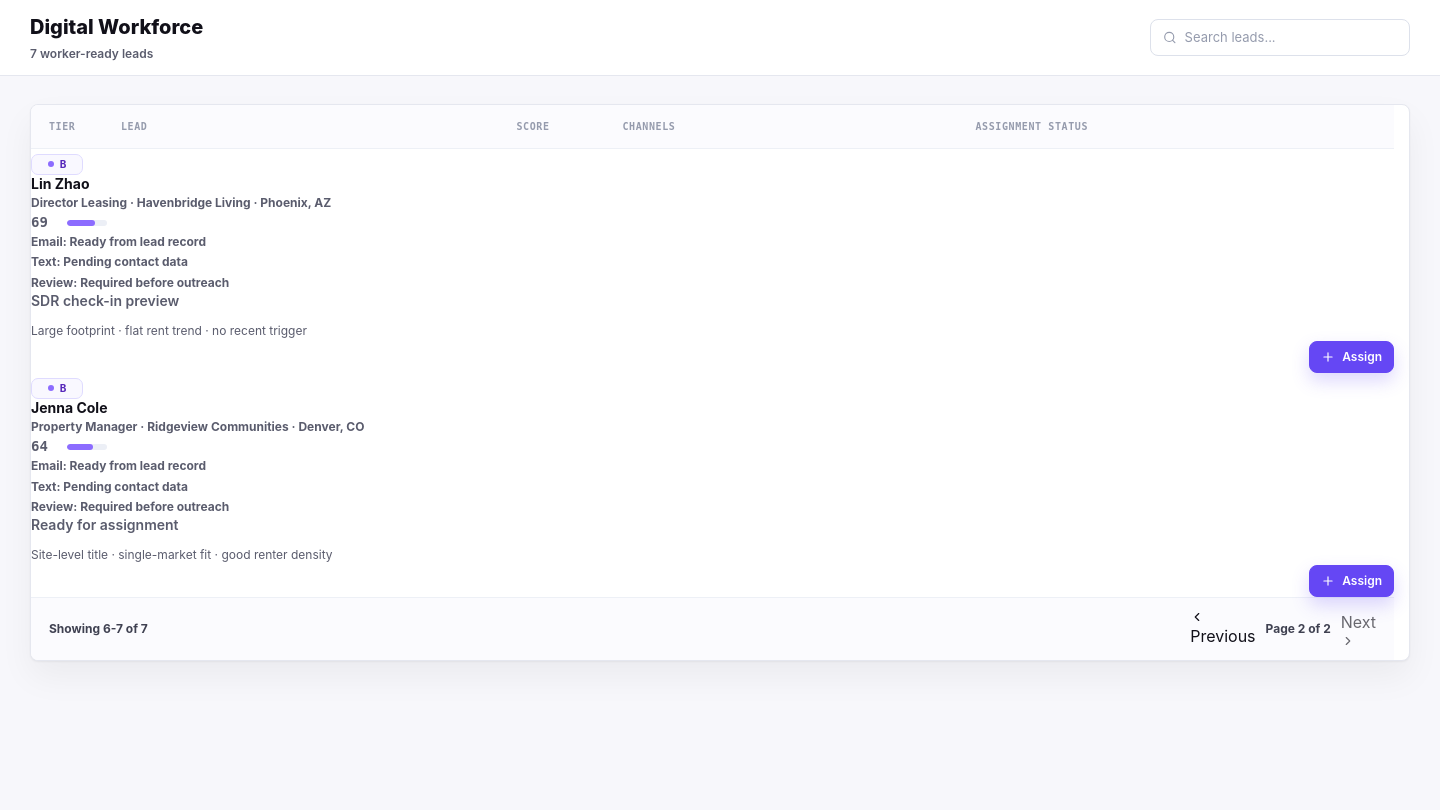
Digital Workforce views › resets pagination when search changes and keeps empty-state copy
Expected: the text "Lin Zhao" is shown, [31,174,90,192]
Type "Sarah Chen" into the field named "Search digital workforce". click: (1291, 38)
box: [1185,28,1397,47]
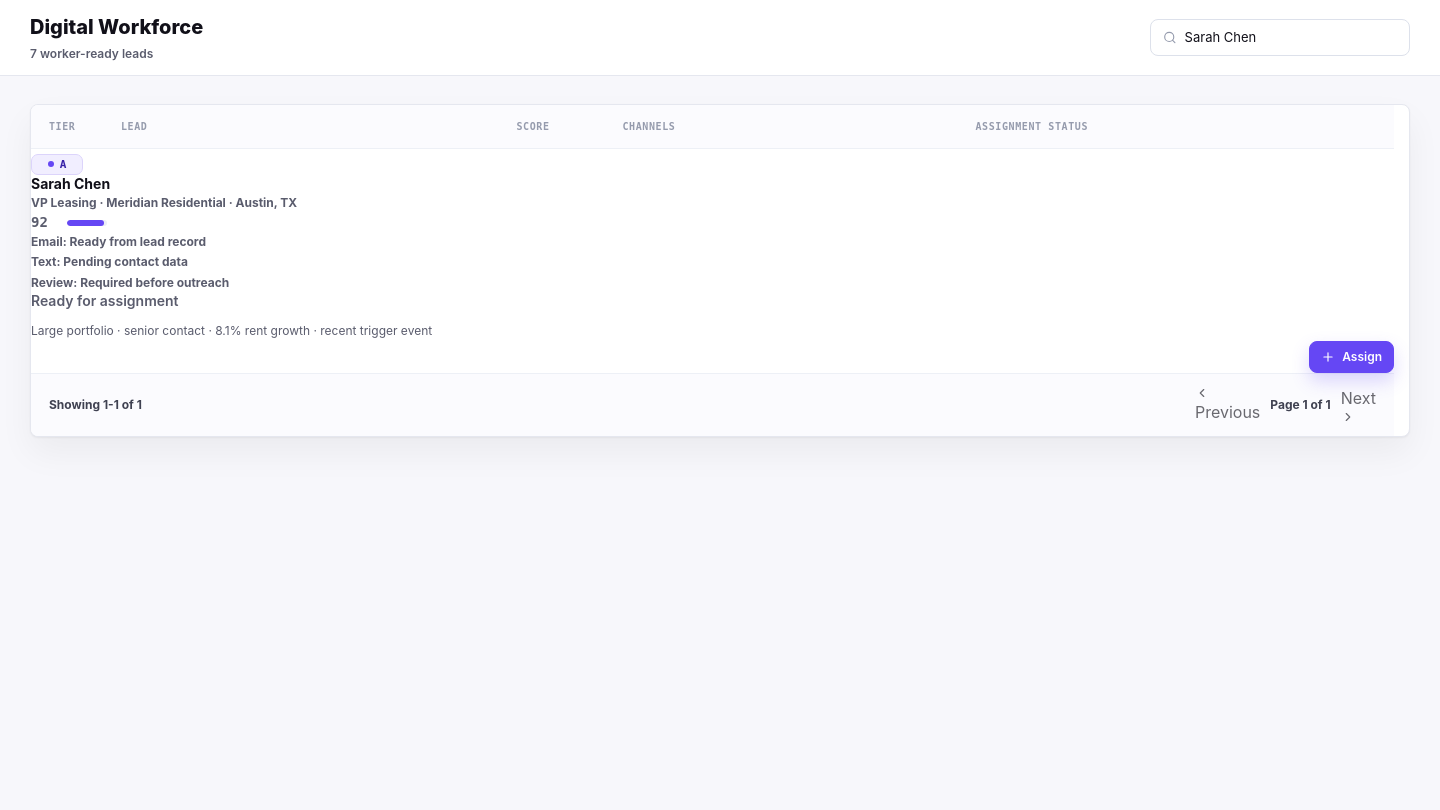
Now the text "Sarah Chen" is shown, box [31,174,110,192]
Now the text "Showing 1-1 of 1" is shown, box [49,396,142,414]
Replace the text in the field named "Search digital workforce" with "does not exist". click: (1291, 38)
box: [1185,28,1397,47]
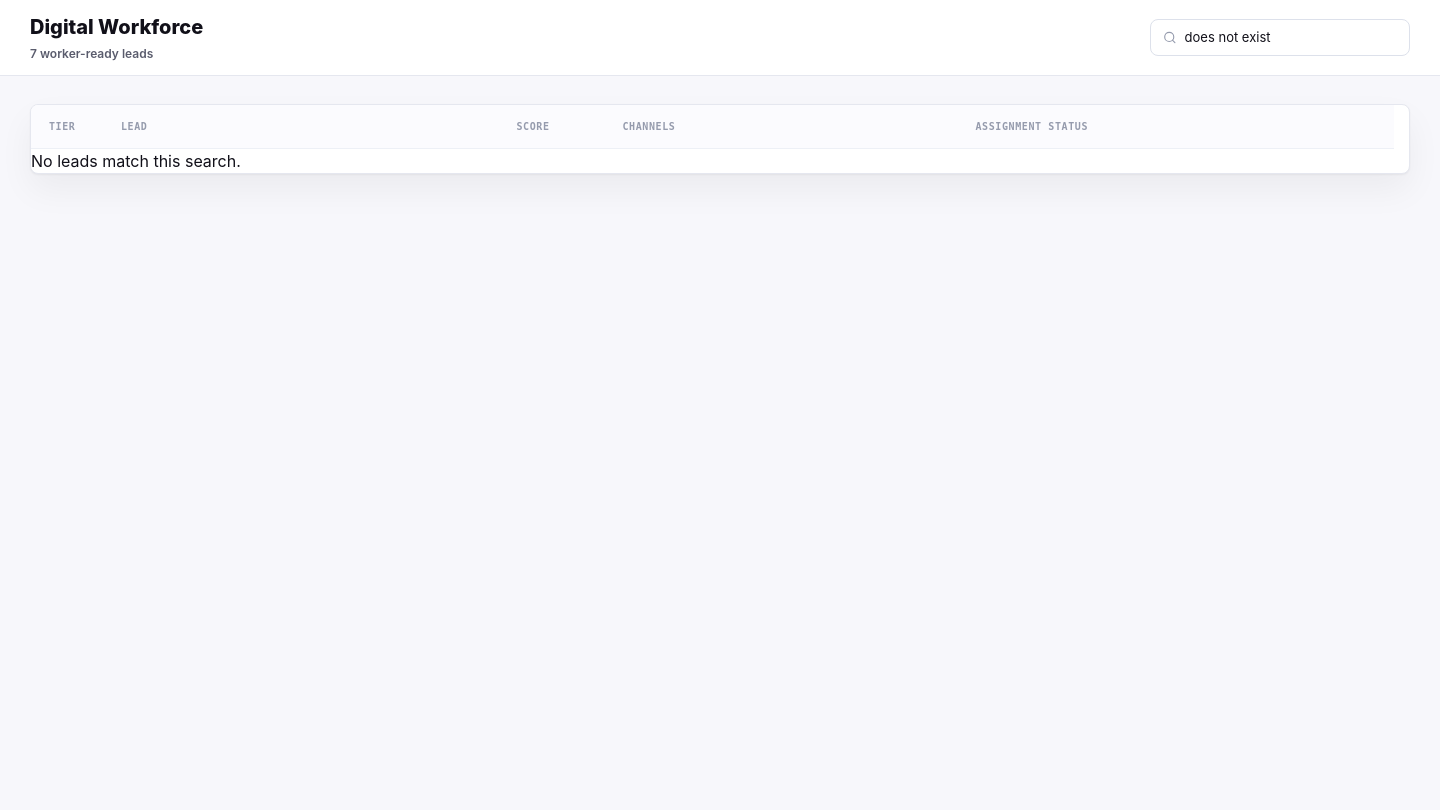
Now the text "No leads match this search." is shown, box [31,151,241,171]
Now the text "Showing" is gone
